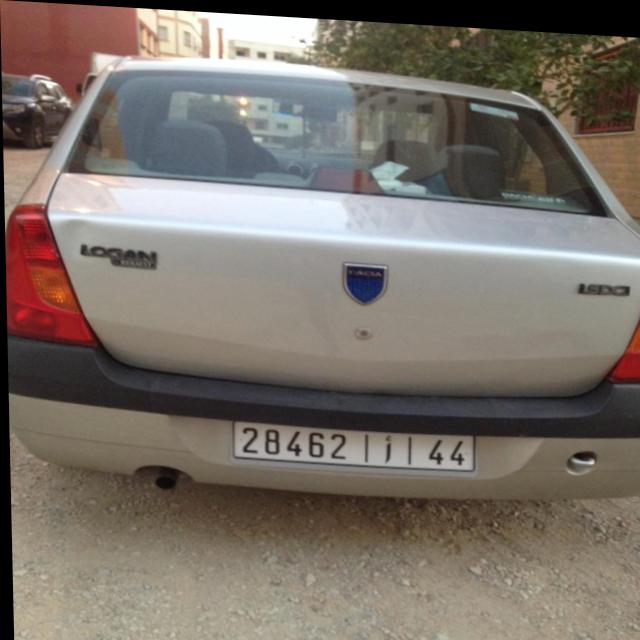License-Plate: (231, 420, 473, 466)
